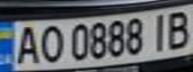0: (66, 20, 90, 61)
8: (124, 15, 148, 56), (87, 19, 109, 60), (106, 17, 127, 57)
A: (12, 22, 42, 65)
B: (163, 7, 193, 51)
I: (145, 10, 172, 52)
O: (36, 22, 66, 63)
